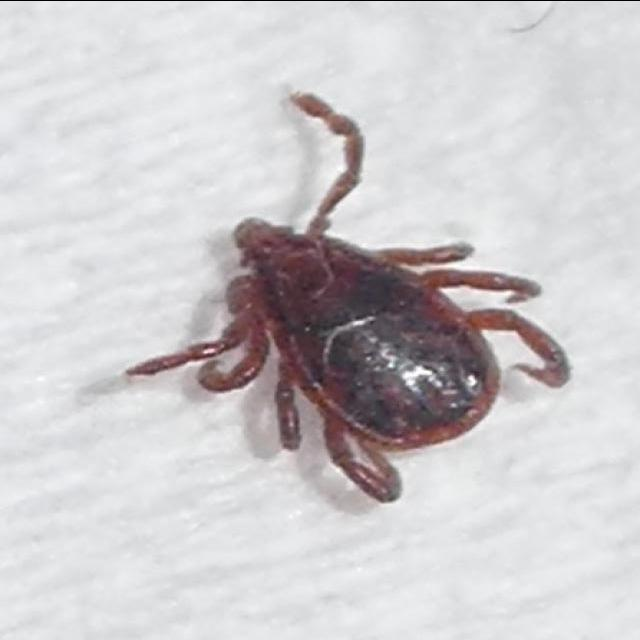Rhipicephalus Sanguineus-M: (128, 91, 570, 504)
